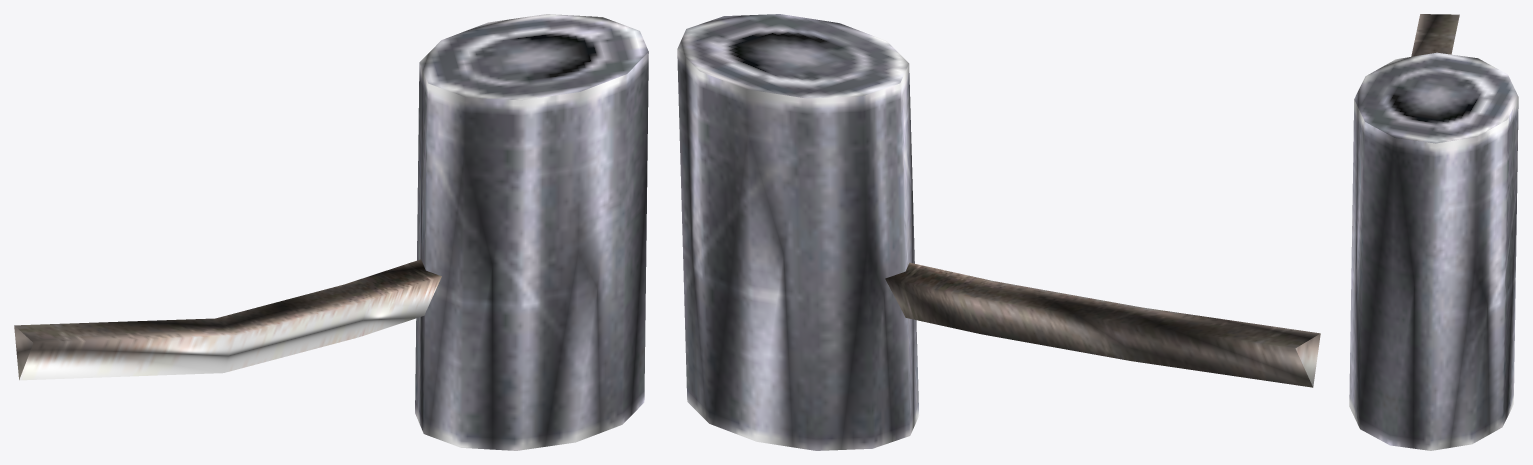
File: Robot01.RightShoulder1.fbx
3 renders of one model, left to right at view 1: azimuth 30°, elevation 25°; view 2: azimuth 150°, elevation 25°; view 3: azimuth 270°, elevation 25°, orthographic. The views are drawn at different scales.
Parts seen in each view (by area): view 1: Robot01.RightShoulder1; view 2: Robot01.RightShoulder1; view 3: Robot01.RightShoulder1.
Boxes of the visible parts, x1,y1,x2,y2 form: Robot01.RightShoulder1: [14, 14, 648, 450]; Robot01.RightShoulder1: [677, 14, 1320, 450]; Robot01.RightShoulder1: [1349, 14, 1518, 450].
Size of the model in its own units: 38.36 by 20.71 by 10.16.
